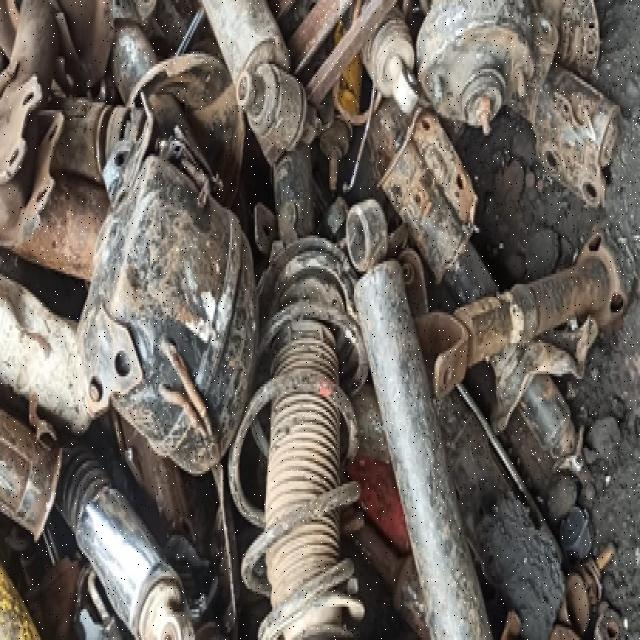shock absorber: (227, 142, 371, 637)
